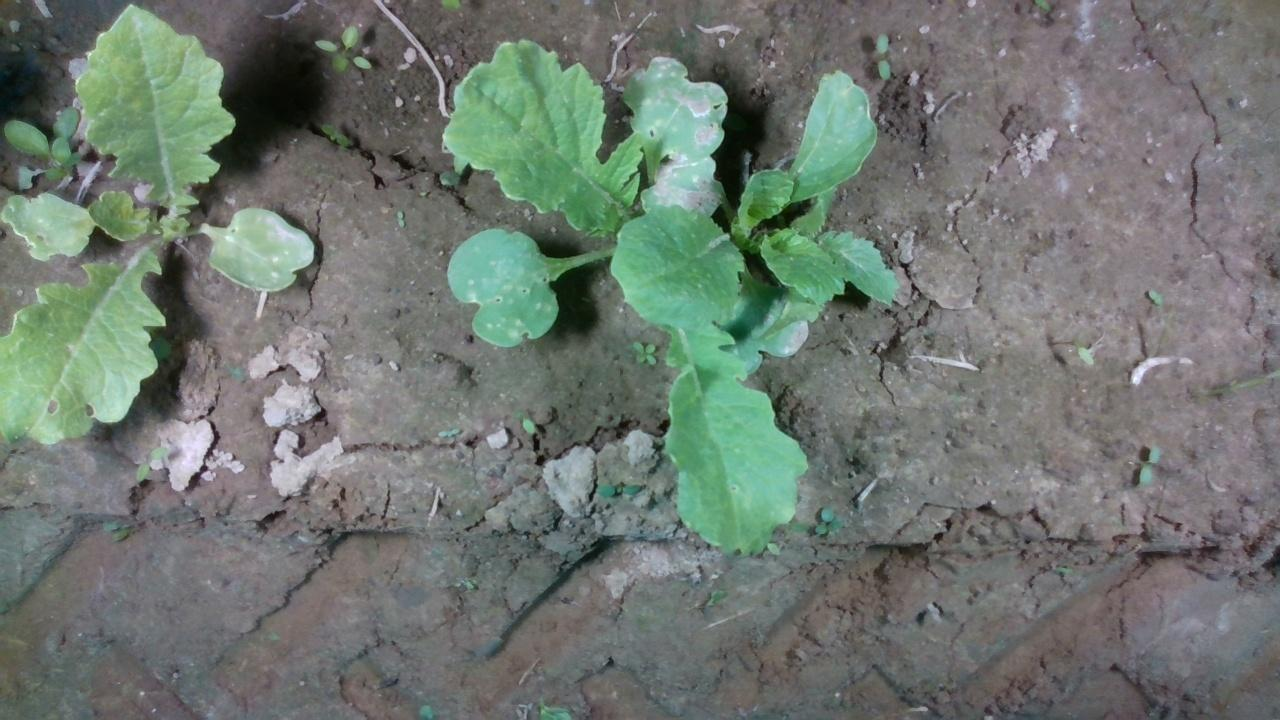weed: (311, 20, 373, 72), (131, 444, 166, 484), (1136, 443, 1160, 485), (873, 30, 892, 80), (316, 121, 351, 147), (630, 339, 656, 366), (1147, 287, 1162, 305), (394, 208, 405, 229)
